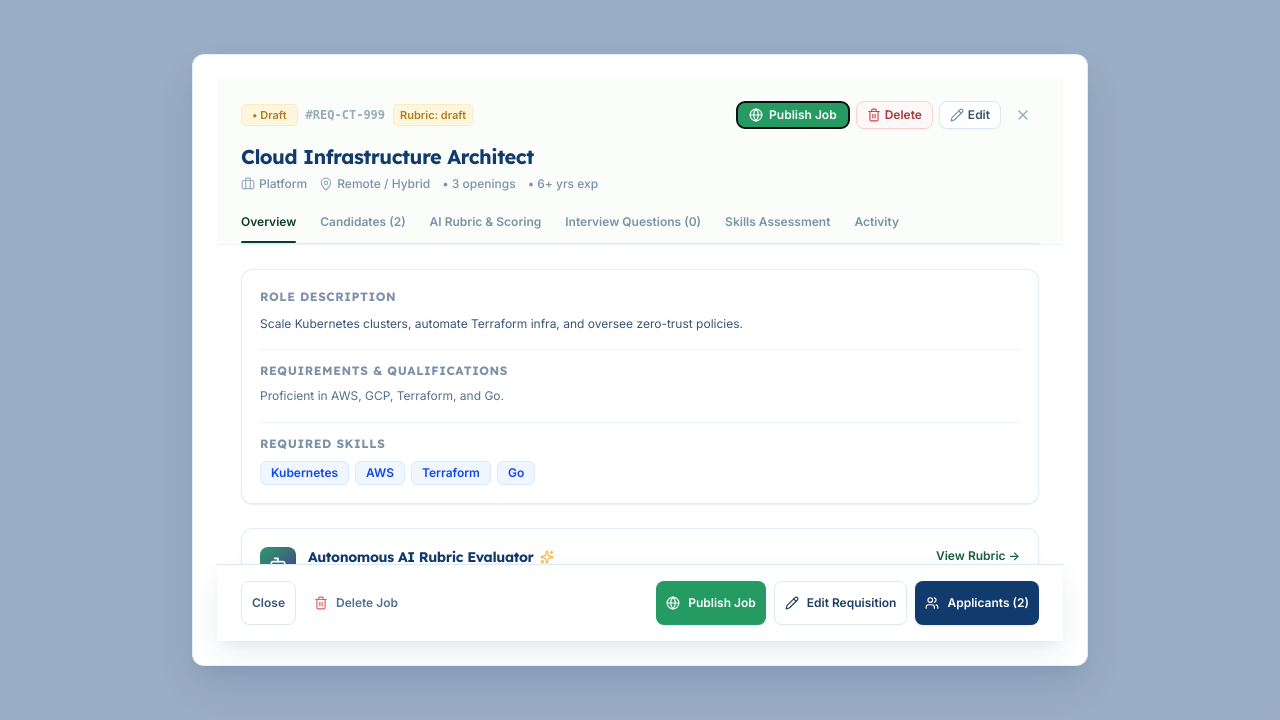
Scenario: JobInspectionDrawer › switches to Candidates tab and renders applicant cards
This screenshot has width=1280, height=720.
What coordinates should you click on to do the following:
click the tab "Candidates (2)"
I would click on:
 (363, 228)
Its box is 320,212 -> 406,242.
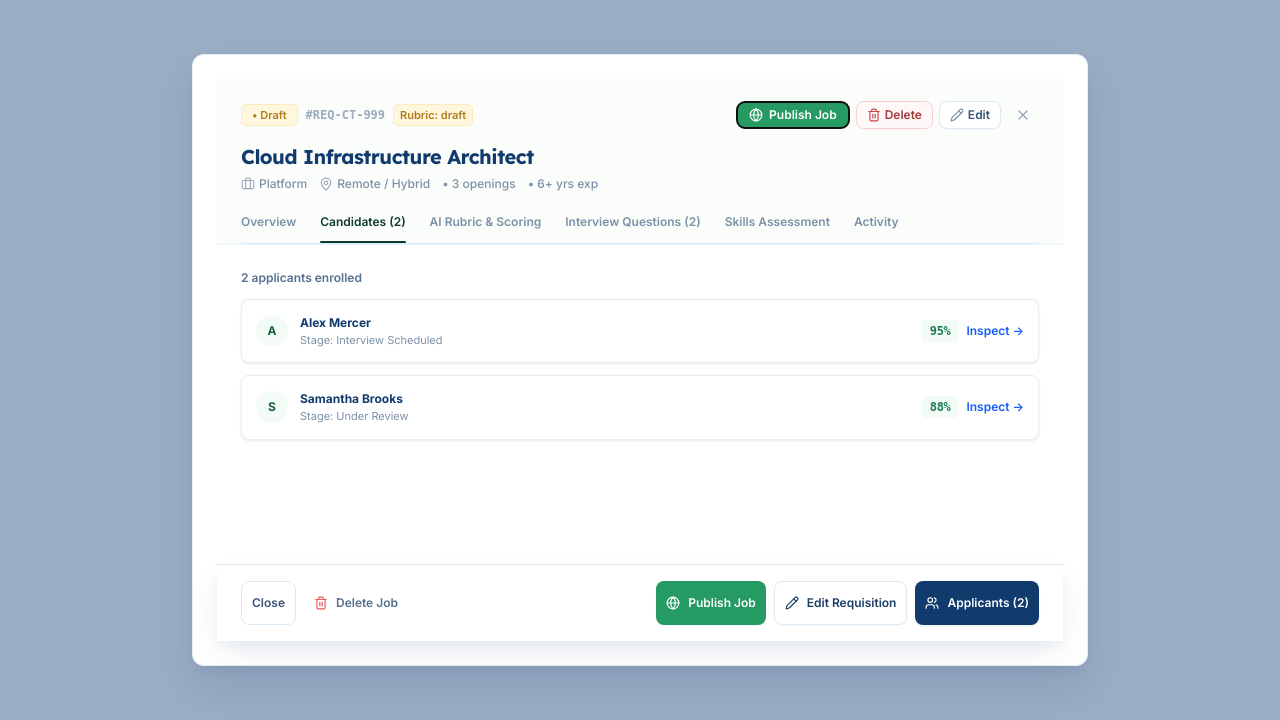
Expected: the text "Samantha Brooks" is shown, 300,390 -> 409,408
Expected: the text "2 applicants enrolled" is shown, 241,268 -> 362,286
